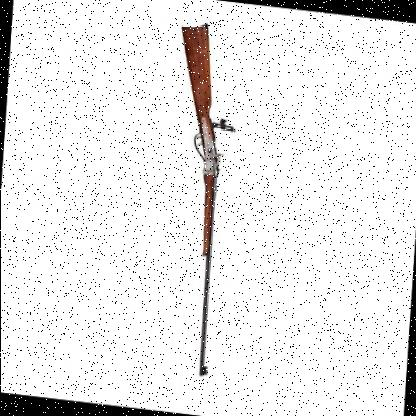rifle: (152, 16, 241, 382)
